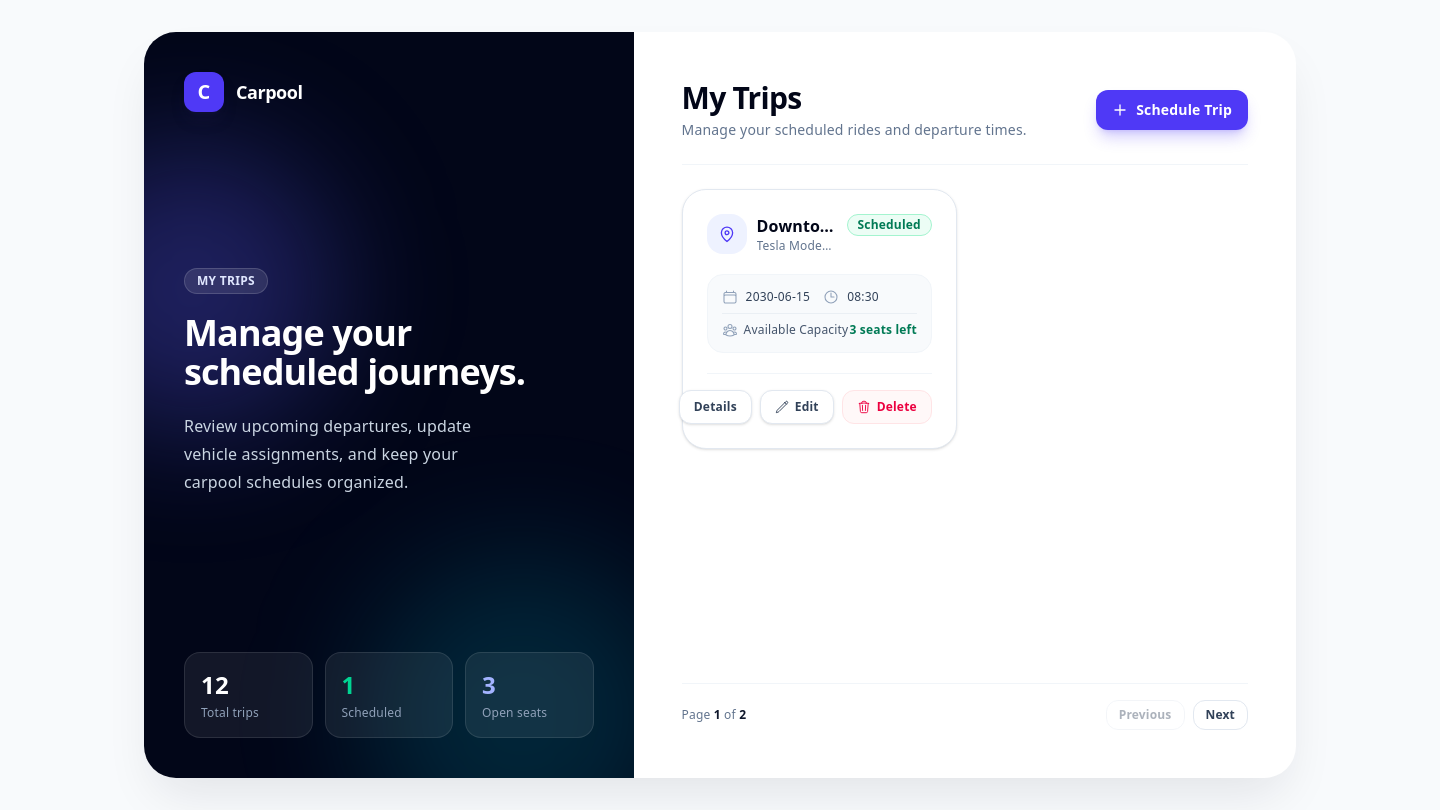
TripsPage › handles pagination when multiple pages exist
Expected: the button "Previous" is disabled, [1106,700,1184,730]
Click the button "Next". click: (1220, 715)
box: [1192,700,1248,730]
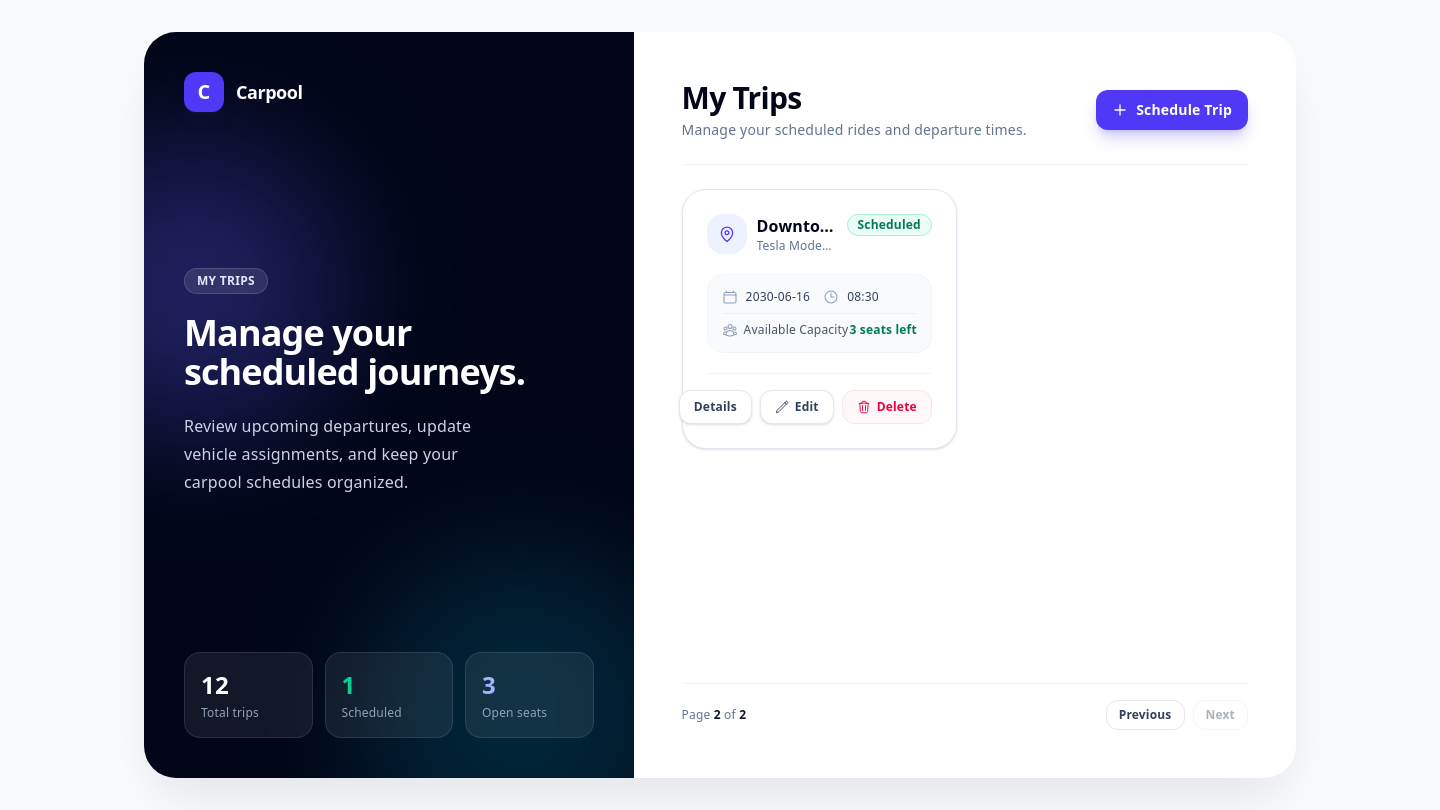
Expected: the text "2030-06-16" is shown, [746,289,810,305]
